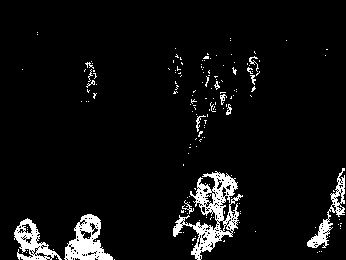person: (189, 76, 217, 139), (246, 50, 261, 92)
